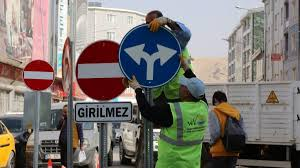Girilmez: (75, 38, 130, 99), (23, 59, 55, 92)
yaya: (156, 78, 222, 168), (206, 62, 256, 165)
